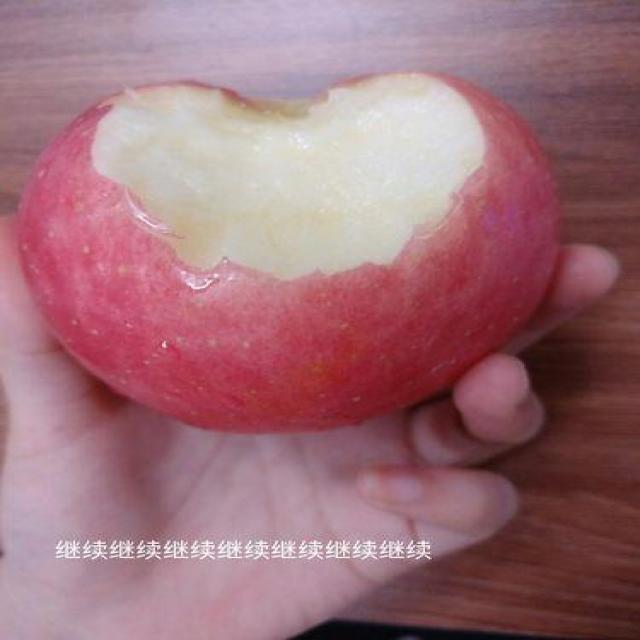Rotten: (19, 56, 570, 434)
